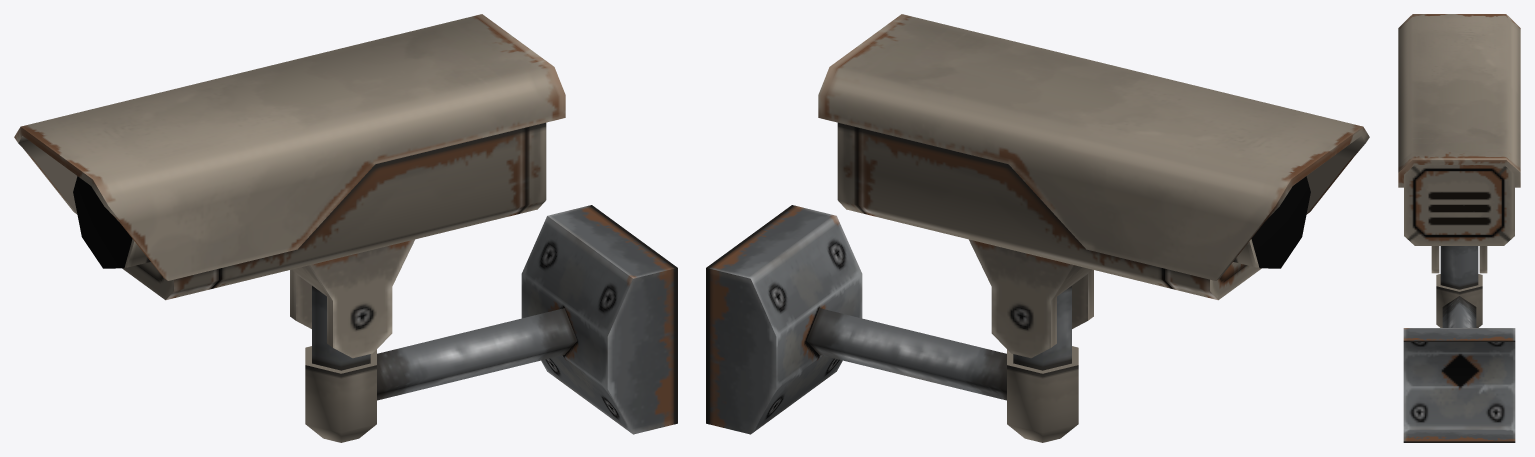
File: securityCamera01.FBX
The picture shows the model from 3 angles, left to right: view 1: azimuth 30°, elevation 25°; view 2: azimuth 150°, elevation 25°; view 3: azimuth 270°, elevation 25°; orthographic projection. The views are drawn at different scales.
Parts seen in each view (by area): view 1: securityCamera01, securityCamera01_body, securityCamera01_lights; view 2: securityCamera01, securityCamera01_body, securityCamera01_lights; view 3: securityCamera01, securityCamera01_body.
Boxes of the visible parts, bbox=[...] form: securityCamera01: bbox=[14, 14, 565, 358]; securityCamera01_body: bbox=[305, 205, 677, 442]; securityCamera01_lights: bbox=[73, 176, 132, 268]; securityCamera01: bbox=[818, 14, 1369, 358]; securityCamera01_body: bbox=[706, 205, 1078, 442]; securityCamera01_lights: bbox=[1251, 176, 1310, 268]; securityCamera01: bbox=[1398, 14, 1520, 273]; securityCamera01_body: bbox=[1403, 246, 1515, 442].
Bounding box in the file's own units: 38.83 × 24.4 × 10.99.
